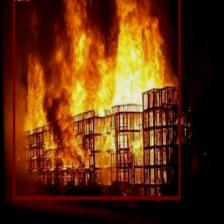fire: (12, 0, 180, 199)
